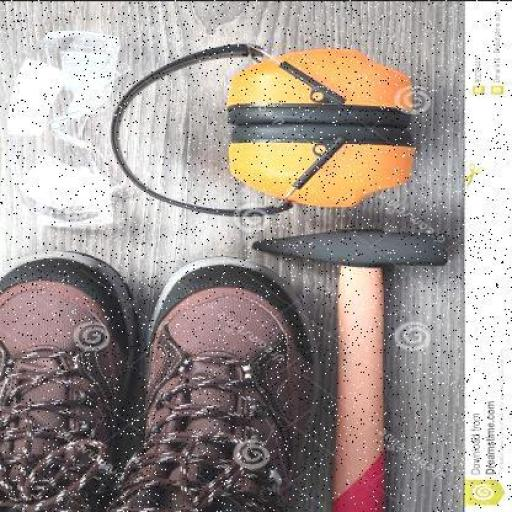safety_shoe: (110, 259, 329, 512), (0, 247, 137, 512)
